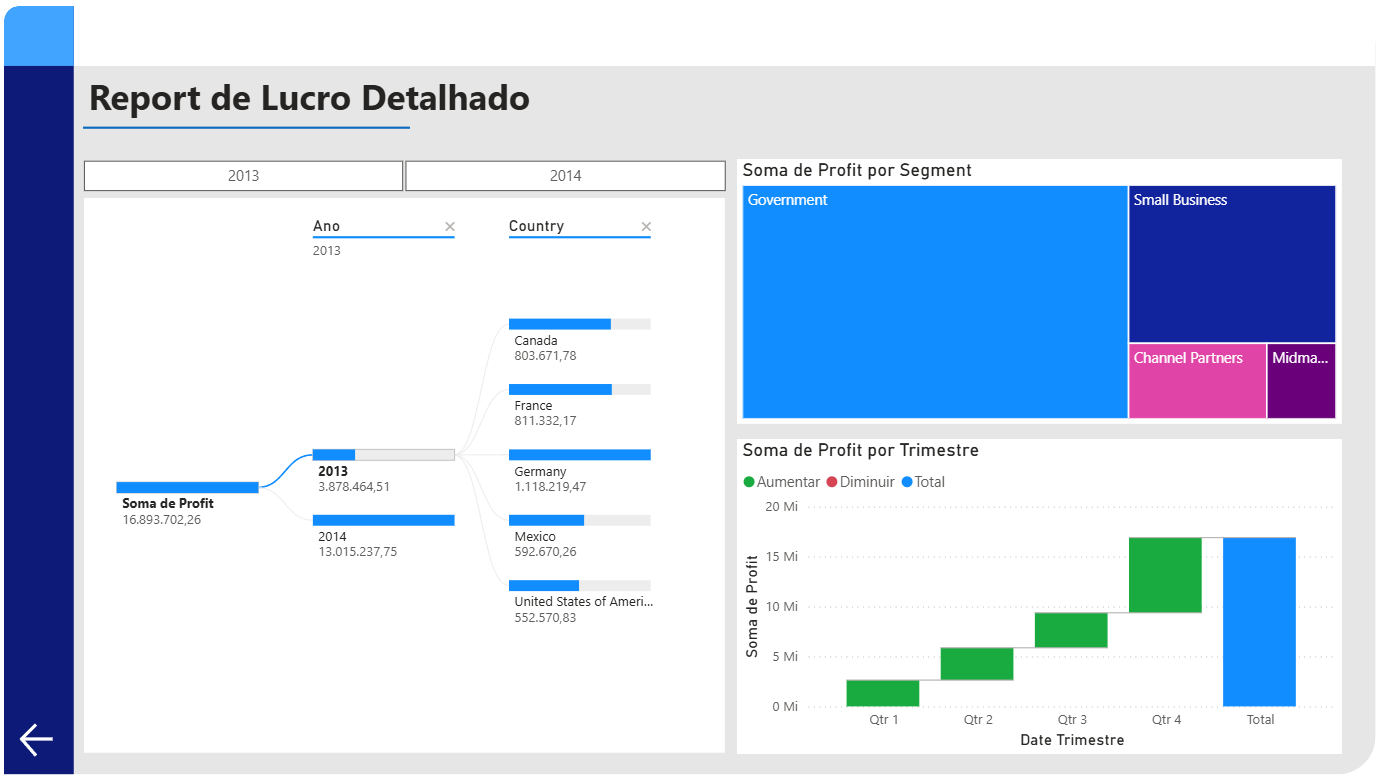

The page's visual inventory and layout, read from the dashboard file:
{"tool":"powerbi","page":{"name":"Página 2","canvas":[1280,720],"ordinal":1},"visuals":[{"type":"shape","box":[10.2,7.2,1258.6,705.3],"z":0},{"type":"shape","box":[10.2,7.2,64.3,705.3],"z":1000},{"type":"shape","box":[10.2,7.2,64.3,55.1],"z":2000},{"type":"shape","box":[74.5,7.2,1194.3,55.1],"z":3000},{"type":"shape","box":[82.7,89.8,300.1,58.2],"z":4000},{"type":"actionButton","box":[20.3,660.9,41.8,40.6],"z":5000},{"type":"textbox","box":[82.3,62,484.3,60.8],"z":6000},{"type":"waterfallChart","fields":{"Y":["Sum(financials.Profit)"],"Category":["financials.Date.Variation.Hierarquia de datas.Trimestre"]},"box":[682.4,404.4,554.7,288.7],"z":7000},{"type":"treemap","fields":{"Values":["Sum(financials.Profit)"],"Group":["financials.Segment"]},"box":[682.4,147.9,554.7,243.4],"z":8000},{"type":"decompositionTreeVisual","fields":{"Analyze":["Sum(financials.Profit)"],"ExplainBy":["financials.Date.Variation.Hierarquia de datas.Ano","financials.Country"]},"box":[83.5,183.7,588.1,509.4],"z":8001},{"type":"slicer","fields":{"Values":["financials.Date.Variation.Hierarquia de datas.Ano"]},"box":[62,142,628.7,41.8],"z":8002}]}

Visuals, with their boxes in screenshot pixels (x1, y1, x2, y2), scaled from the page's 1280x720 canvas onto the 1384x783 screenshot:
shape: 11,8,1372,775
shape: 11,8,81,775
shape: 11,8,81,68
shape: 81,8,1372,68
shape: 89,98,414,161
actionButton: 22,719,67,763
textbox: 89,67,613,134
waterfallChart - Sum(financials.Profit) x financials.Date.Variation.Hierarquia de datas.Trimestre: 738,440,1338,754
treemap - Sum(financials.Profit) x financials.Segment: 738,161,1338,426
decompositionTreeVisual - Sum(financials.Profit) x financials.Date.Variation.Hierarquia de datas.Ano: 90,200,726,754
slicer - financials.Date.Variation.Hierarquia de datas.Ano: 67,154,747,200
